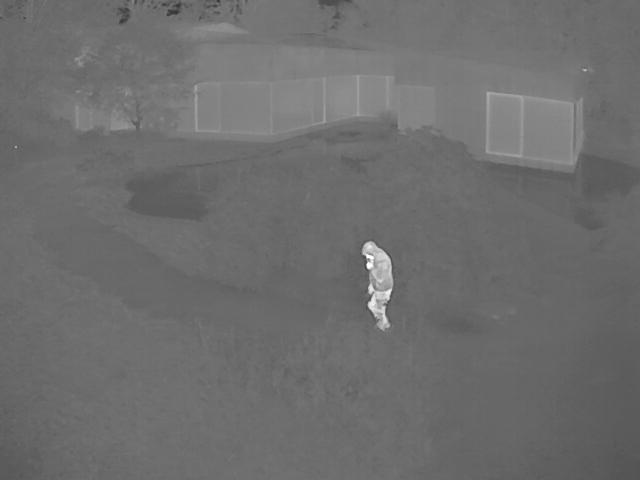person: (364, 240, 394, 331)
